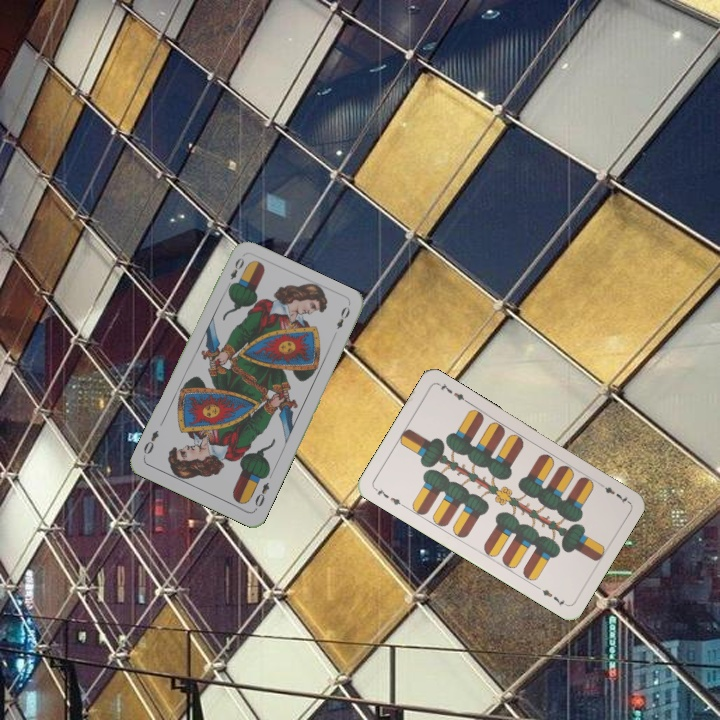E7: (594, 479, 631, 506), (370, 484, 407, 510)
EO: (222, 253, 247, 291), (251, 478, 272, 510)
